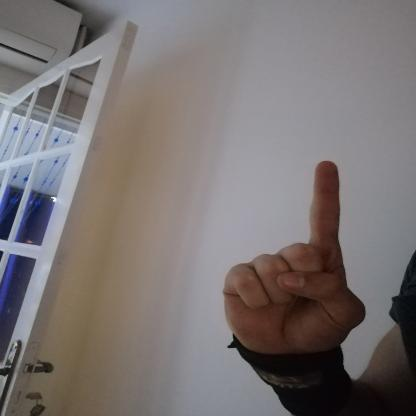BAA: (204, 149, 372, 367)
